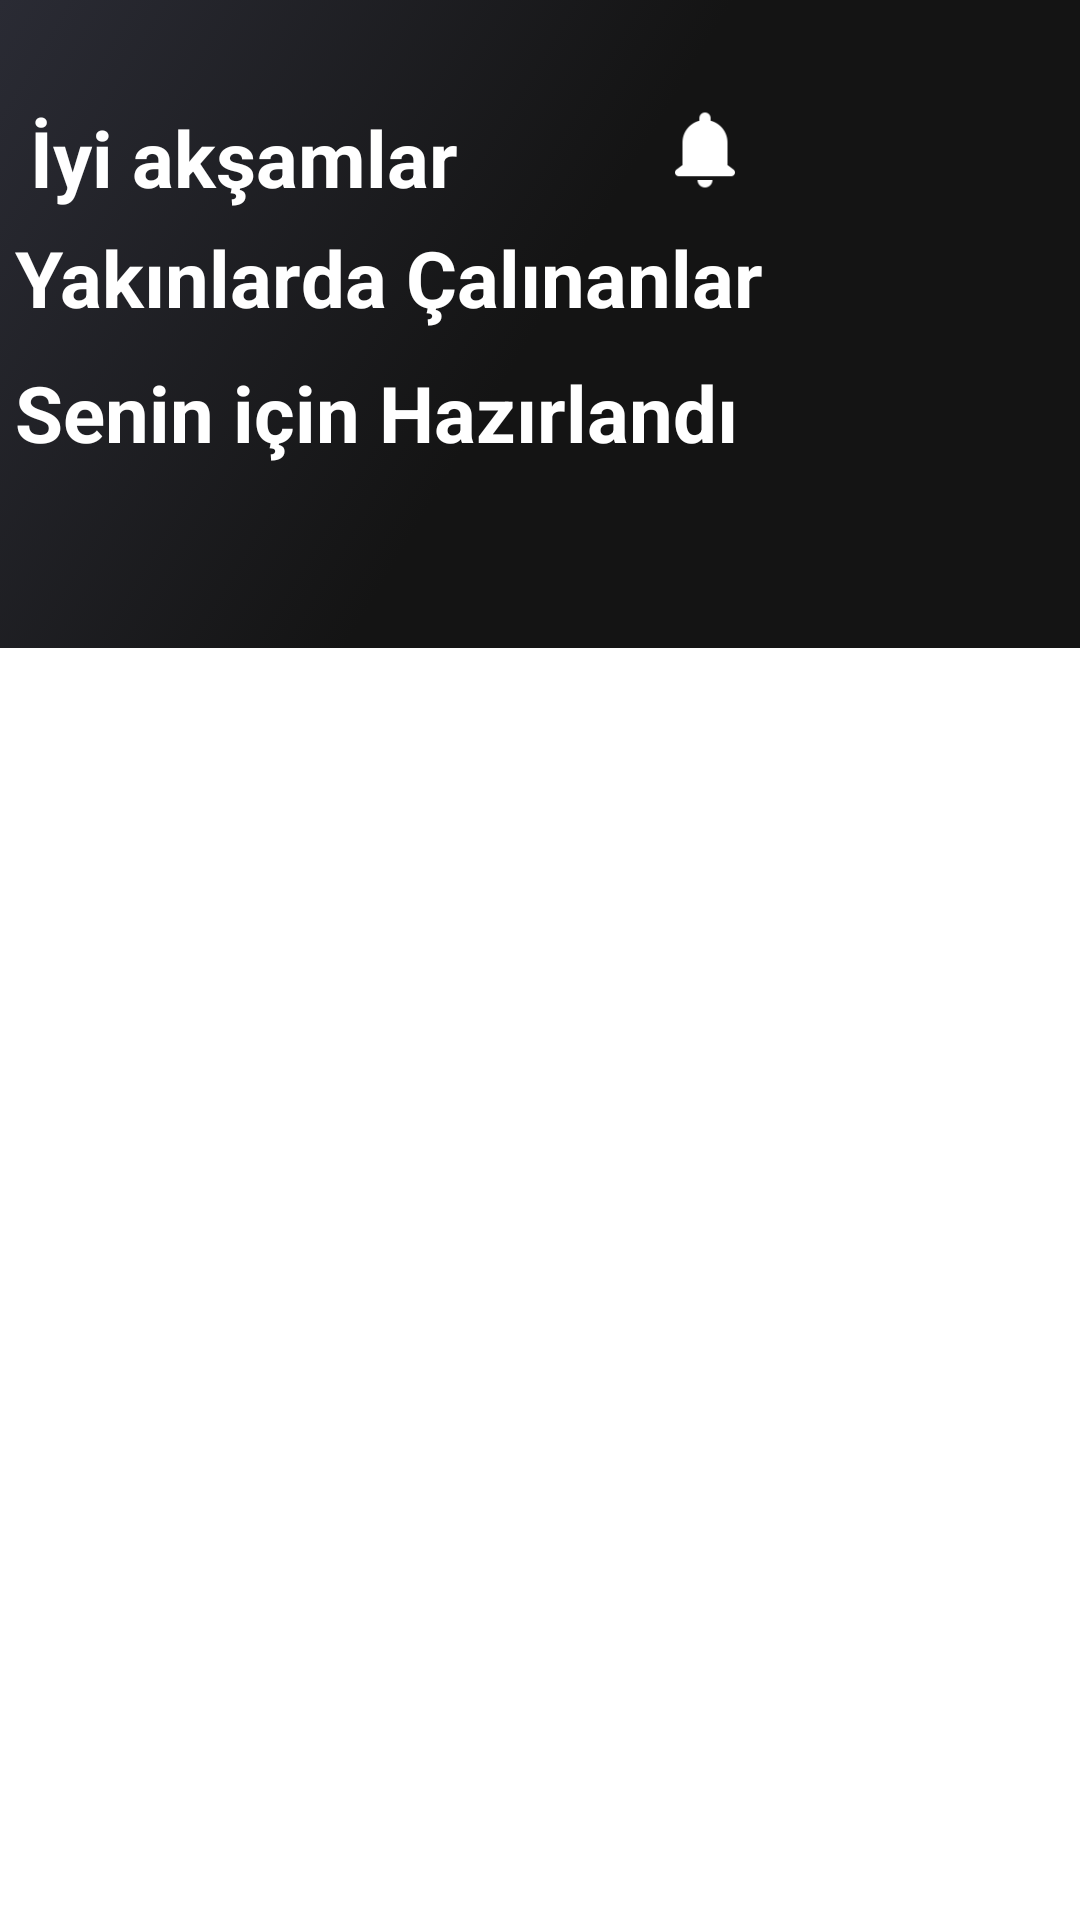

Locate icon controls on the screen. Image size 1080px×1920px, boxes as detection(x1, y1, x2, y2).
notification: detection(675, 112, 735, 188)
